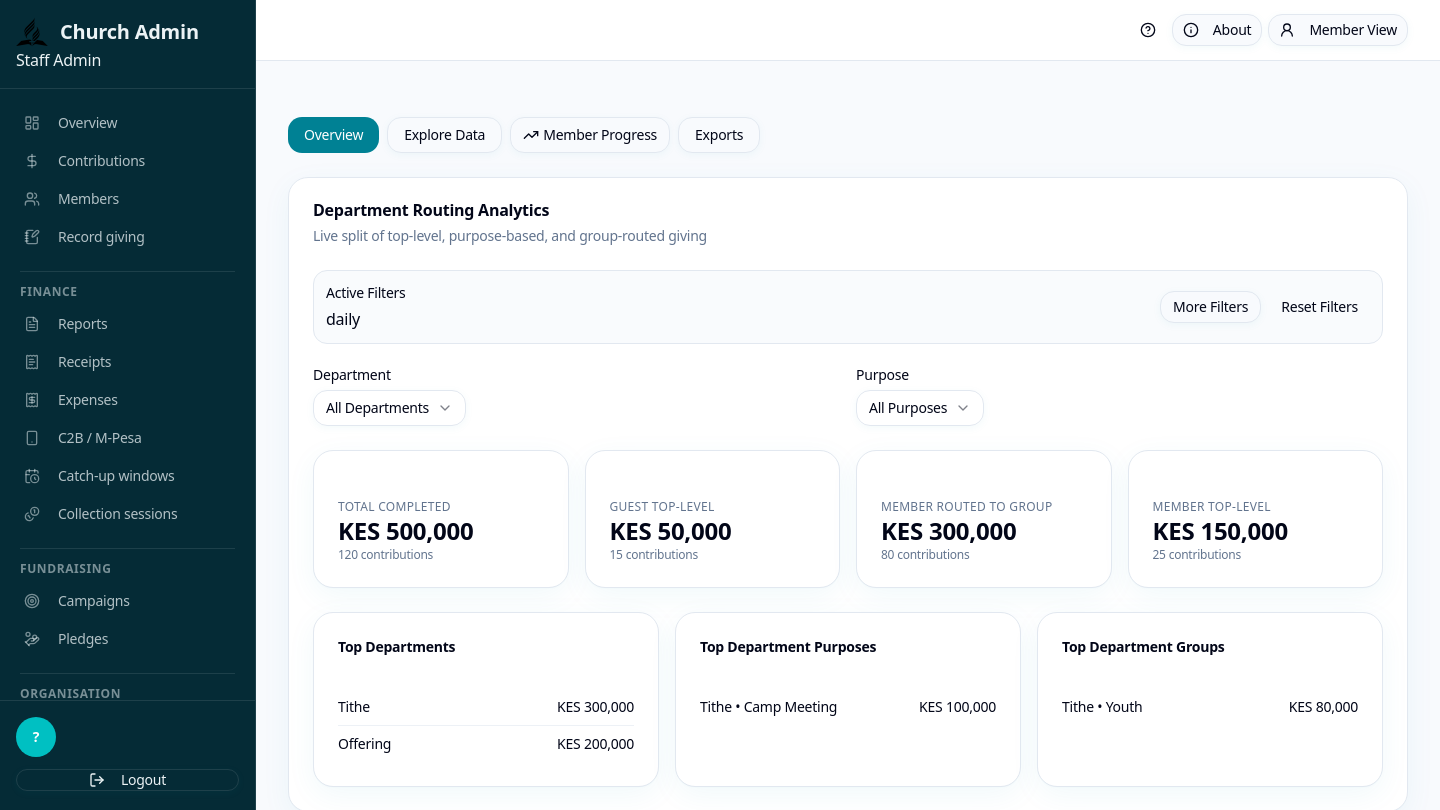
ReportsPage › renders Generate Report section in Exports mode
Step 1. Click the button "Exports" → point(719, 135), box [678,117,760,153]
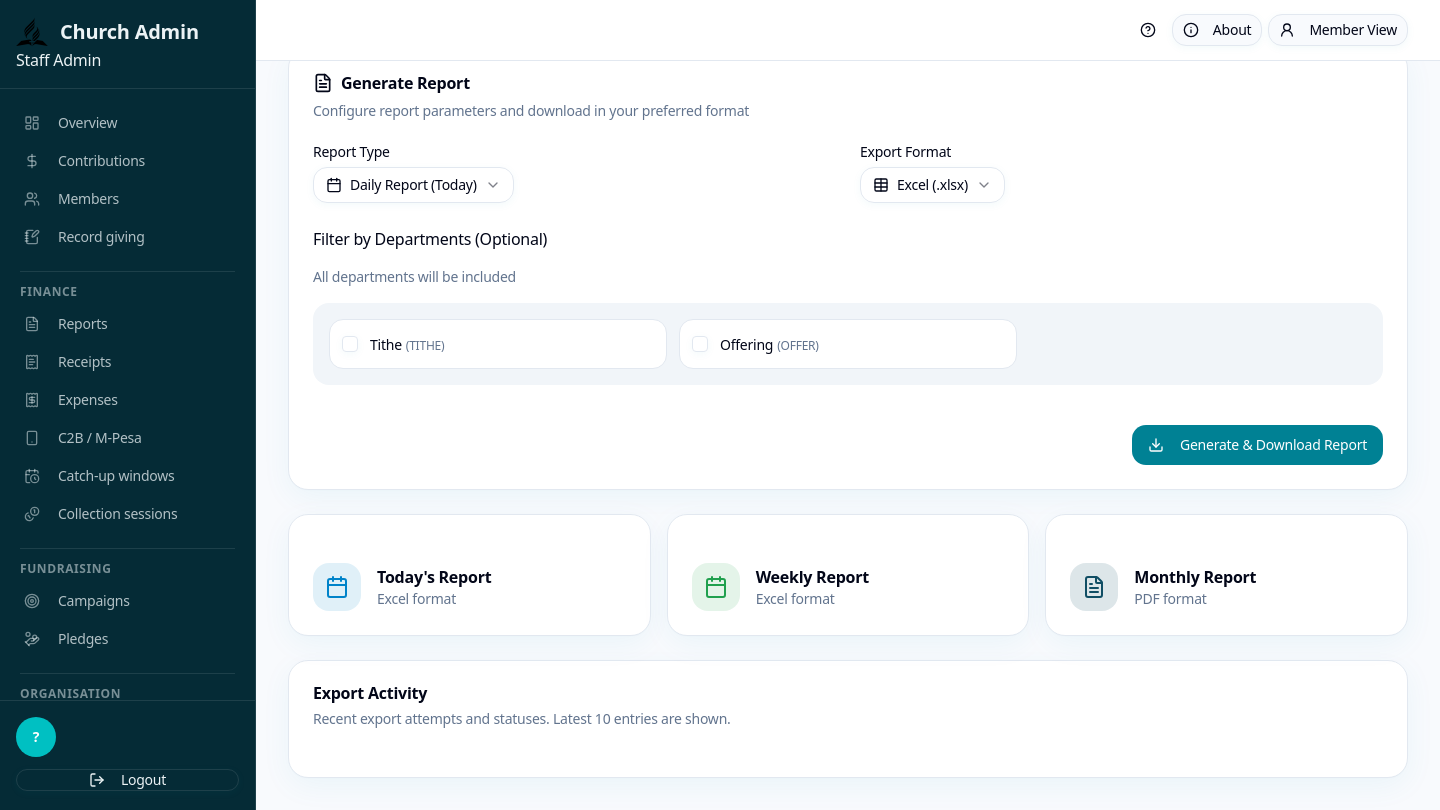
Result: the text "Generate Report" is shown at [313,72,470,94]
Result: the button "Generate & Download Report" is shown at [1132,425,1383,465]
